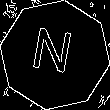N_S: (31, 27, 79, 83)
